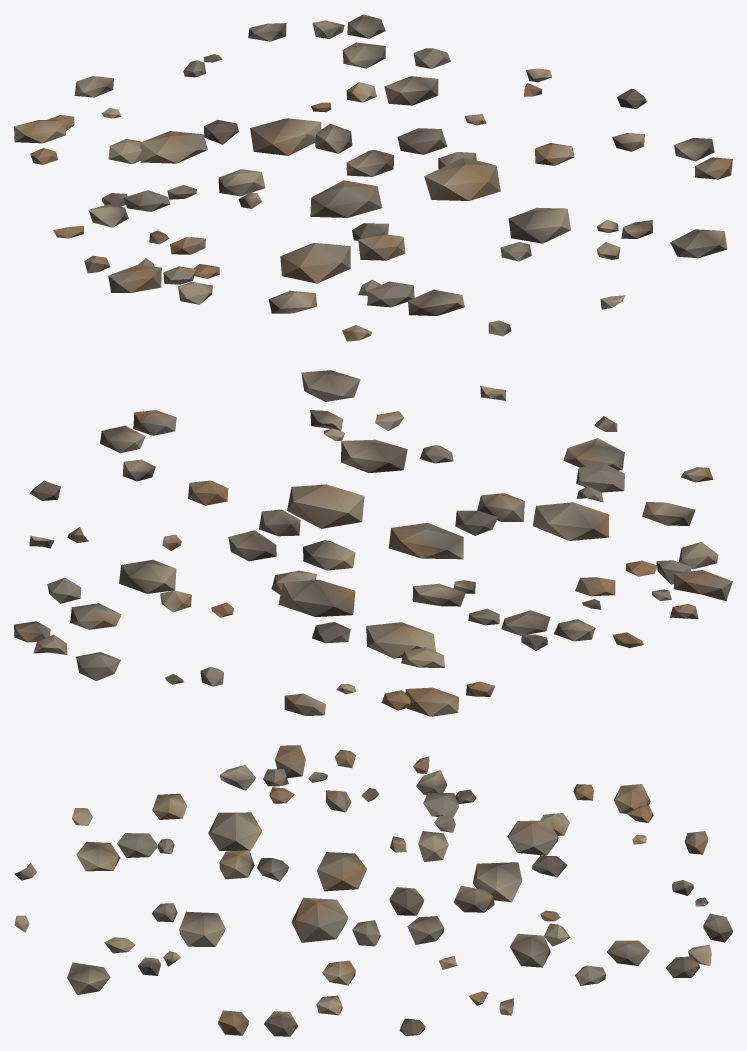
File: pebble_patch.glb
3 views of the same model, one above another, from view 1: azimuth 30°, elevation 25°; view 2: azimuth 150°, elevation 25°; view 3: azimuth 270°, elevation 25° (orthographic). The views are drawn at different scales.
Parts seen in each view (by area): view 1: pebble_patch; view 2: pebble_patch; view 3: pebble_patch.
Part boxes in pixels (box(x1,y1,x2,y2)): pebble_patch: box(14, 14, 732, 341); pebble_patch: box(14, 370, 732, 716); pebble_patch: box(14, 745, 732, 1036).
Bounding box in the file's own units: 1.93 × 0.0968 × 2.08.
